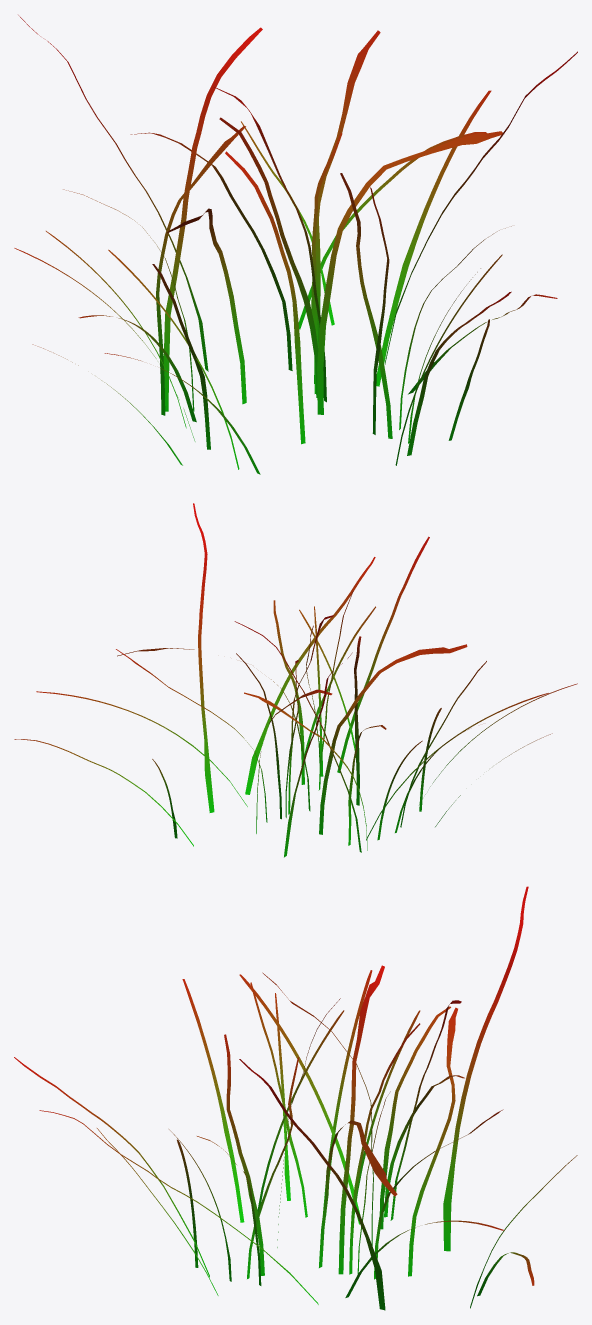
The model's file is Cotton Grass_LOD1_Var6_wlykecdia.fbx.
The picture shows the model from 3 angles, top to bottom: view 1: azimuth 30°, elevation 25°; view 2: azimuth 150°, elevation 25°; view 3: azimuth 270°, elevation 25°; orthographic projection. The views are drawn at different scales.
Visible parts, largest first — view 1: _x02i_Var6_LOD1; view 2: _x02i_Var6_LOD1; view 3: _x02i_Var6_LOD1.
Boxes of the visible parts, x1,y1,x2,y2 form: _x02i_Var6_LOD1: (14, 15, 577, 474); _x02i_Var6_LOD1: (14, 503, 577, 857); _x02i_Var6_LOD1: (14, 886, 577, 1310).
Size of the model in its own units: 25.41 by 14.3 by 23.94.
